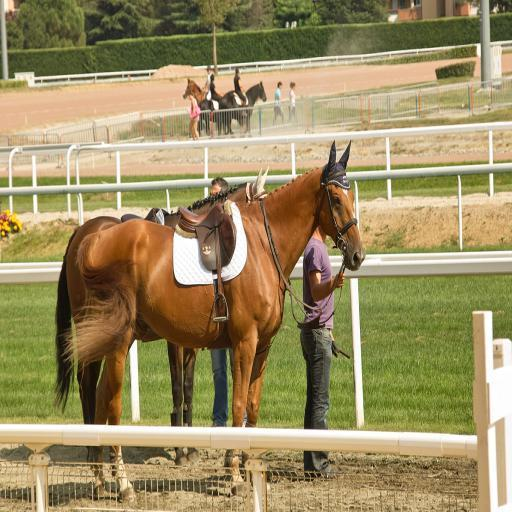horse: (50, 164, 270, 472), (216, 81, 268, 140), (198, 87, 236, 137), (182, 77, 222, 107), (194, 98, 225, 136)
